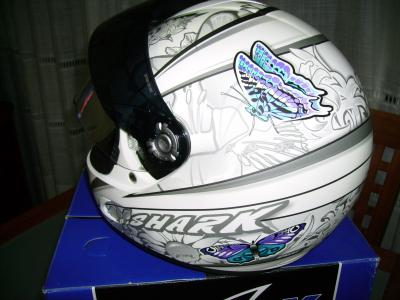helmet: (93, 11, 362, 248)
